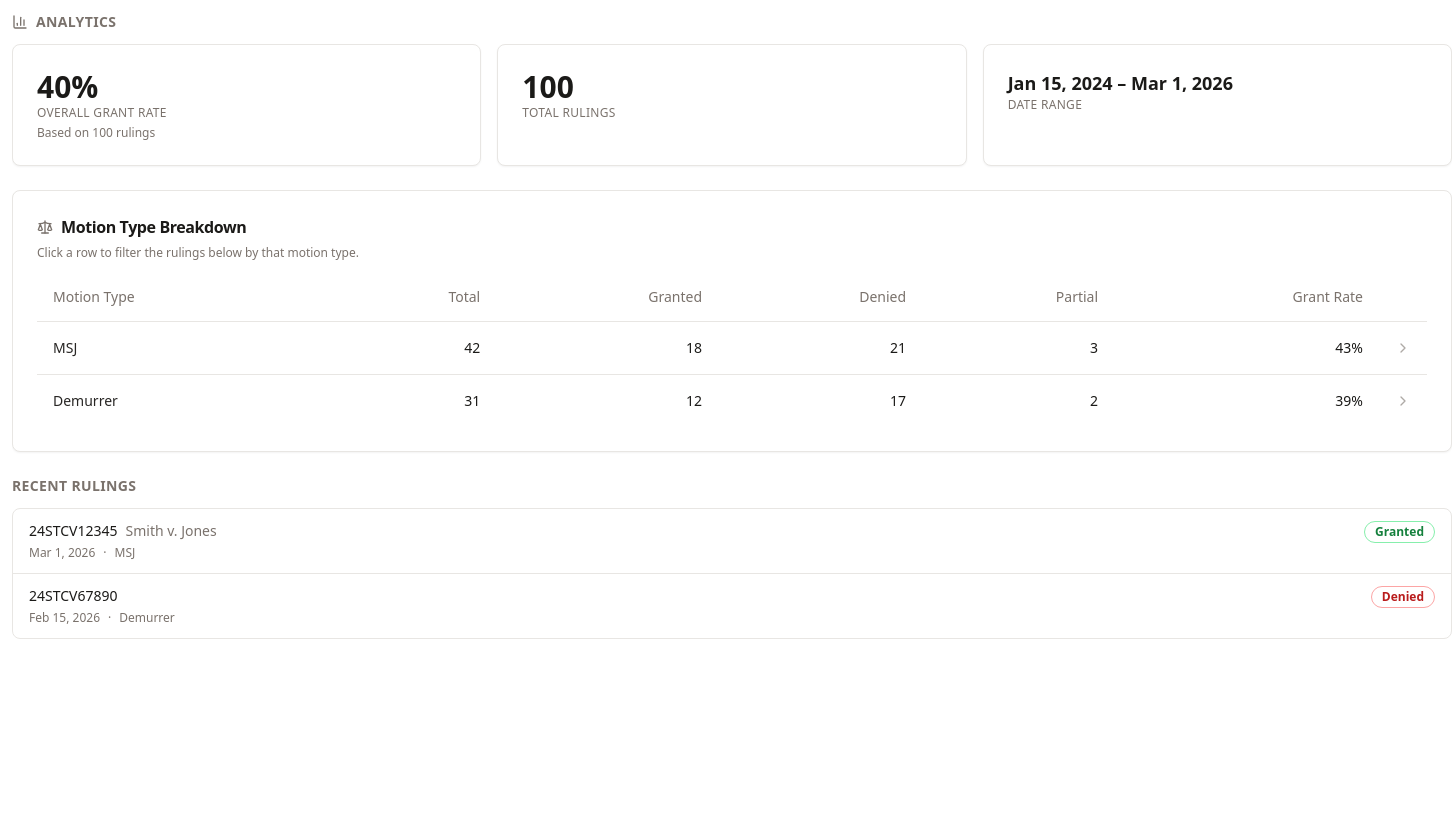
JudgeProfile › shows filter pill when a motion type row is clicked
Check: the 1st text "MSJ" is shown, box [53, 338, 77, 356]
Click the button "Demurrer 31 12 17 2 39%" at {"x": 85, "y": 400}, box [37, 374, 1427, 426]
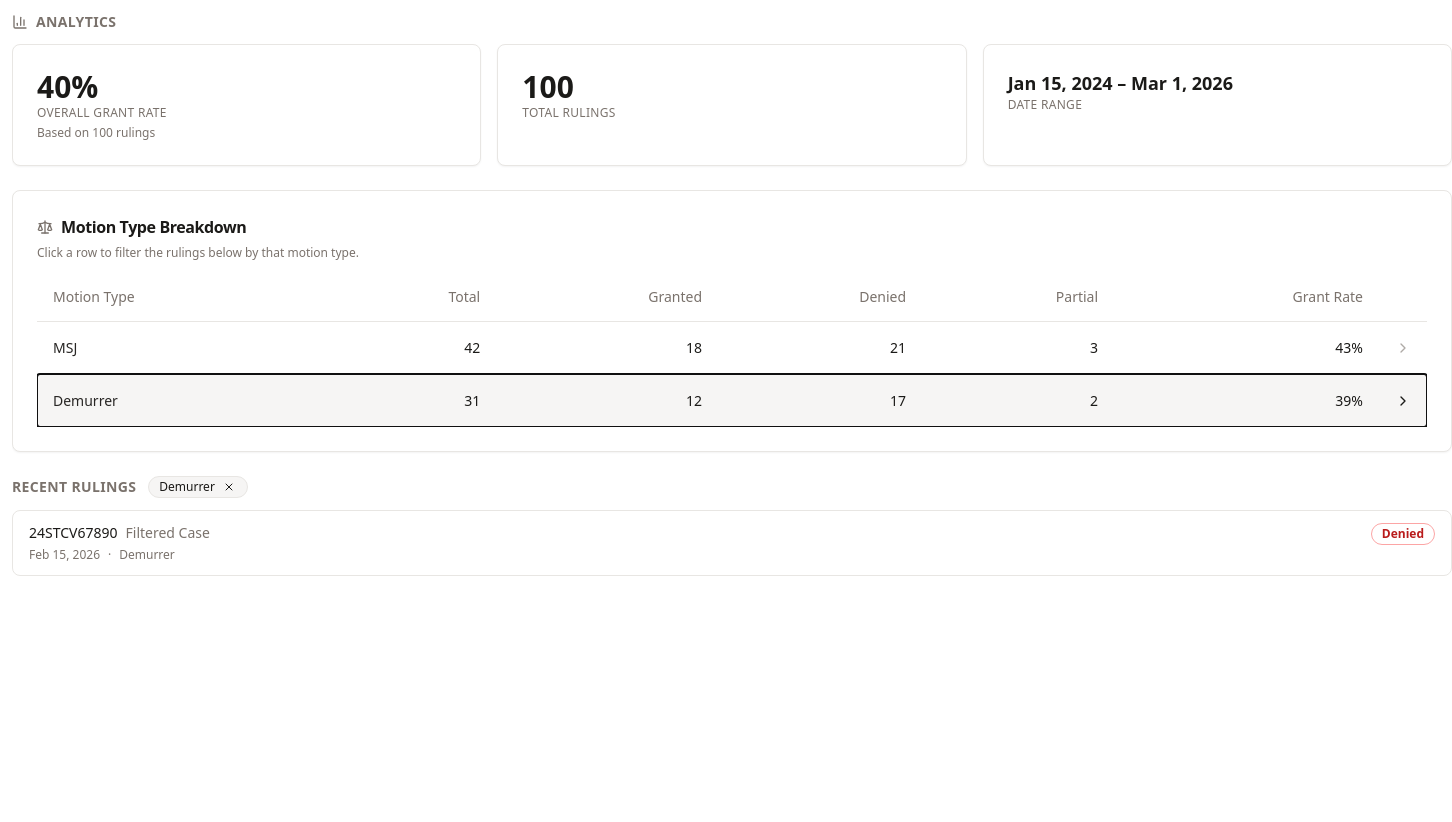
Check: the element with test id "motion-type-filter-pill" is shown, box [148, 476, 248, 498]
Check: the element with test id "motion-type-filter-pill" reads "Demurrer", box [159, 478, 215, 494]
